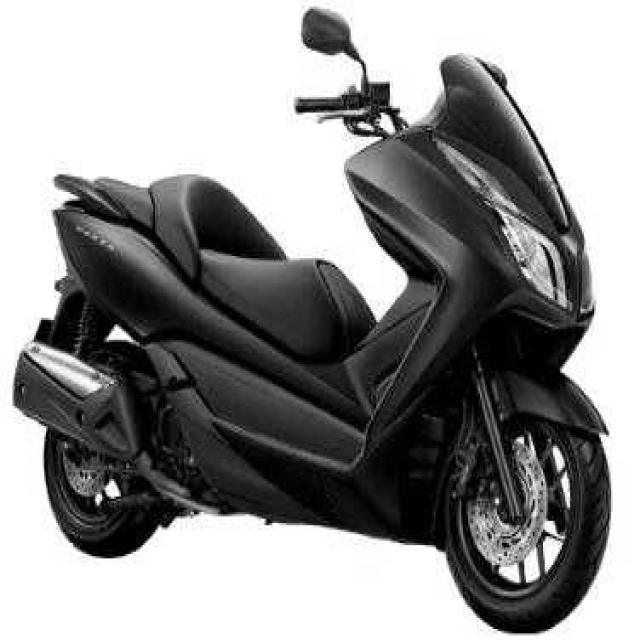Motorcycle: (14, 55, 610, 632)
